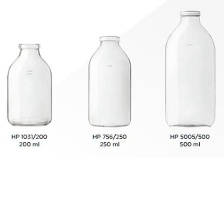bottle: (161, 6, 219, 129), (85, 30, 136, 130), (5, 40, 57, 130)
